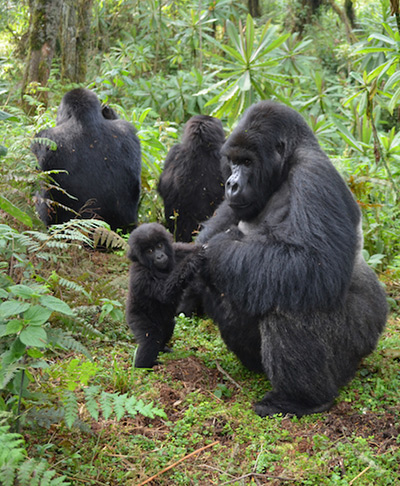Gorilla: (225, 124, 386, 409), (44, 89, 145, 232), (116, 222, 204, 362), (161, 117, 231, 222)
